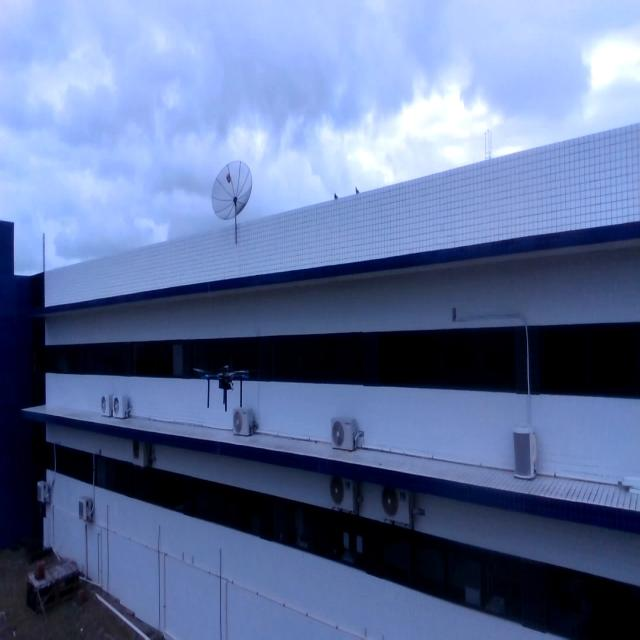-uav-: (191, 357, 252, 419)
